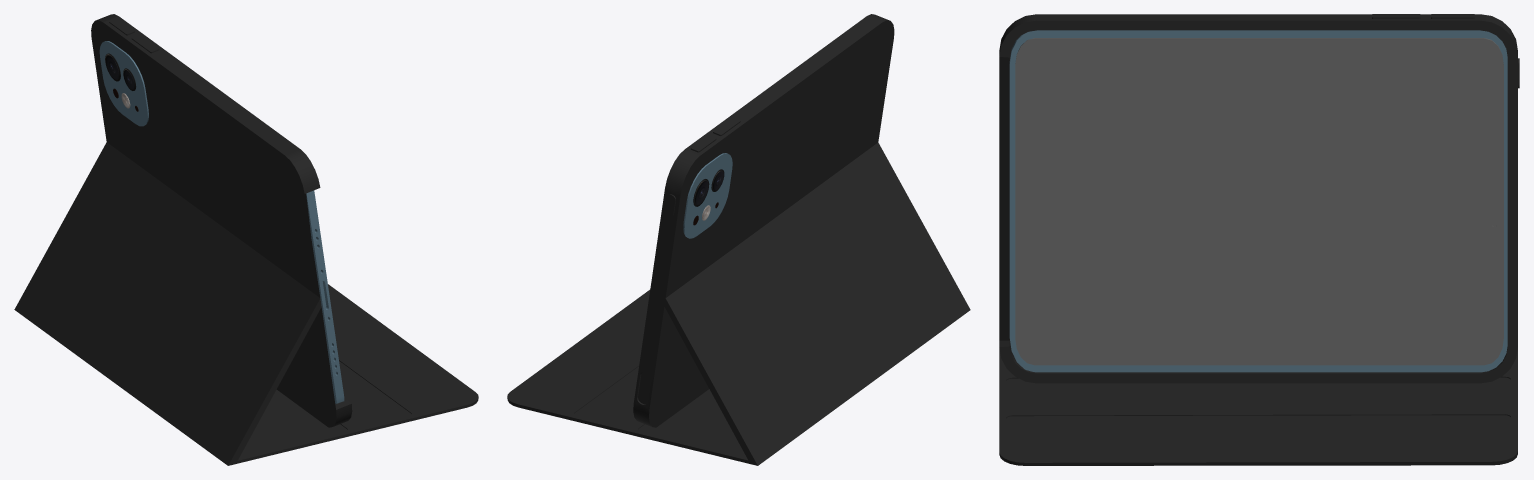
File: ipad.fbx
3 renders of one model, left to right at view 1: azimuth 30°, elevation 25°; view 2: azimuth 150°, elevation 25°; view 3: azimuth 270°, elevation 25°, orthographic. The views are drawn at different scales.
Visible parts, largest first — view 1: casingSP, phone1, camerabase, cameras; view 2: casingSP, camerabase, cameras; view 3: phone1, casingSP.
Boxes of the visible parts, box(x1,y1,x2,y2) form: casingSP: box(14, 14, 478, 465); phone1: box(306, 190, 344, 403); camerabase: box(99, 41, 148, 126); cameras: box(105, 53, 138, 111); casingSP: box(507, 14, 970, 465); camerabase: box(683, 153, 732, 238); cameras: box(693, 169, 724, 225); phone1: box(1009, 30, 1507, 372); casingSP: box(999, 14, 1519, 465).
Size of the model in its own units: 21.41 by 22.45 by 30.62.
Materials: 2 (1 with a texture image).
